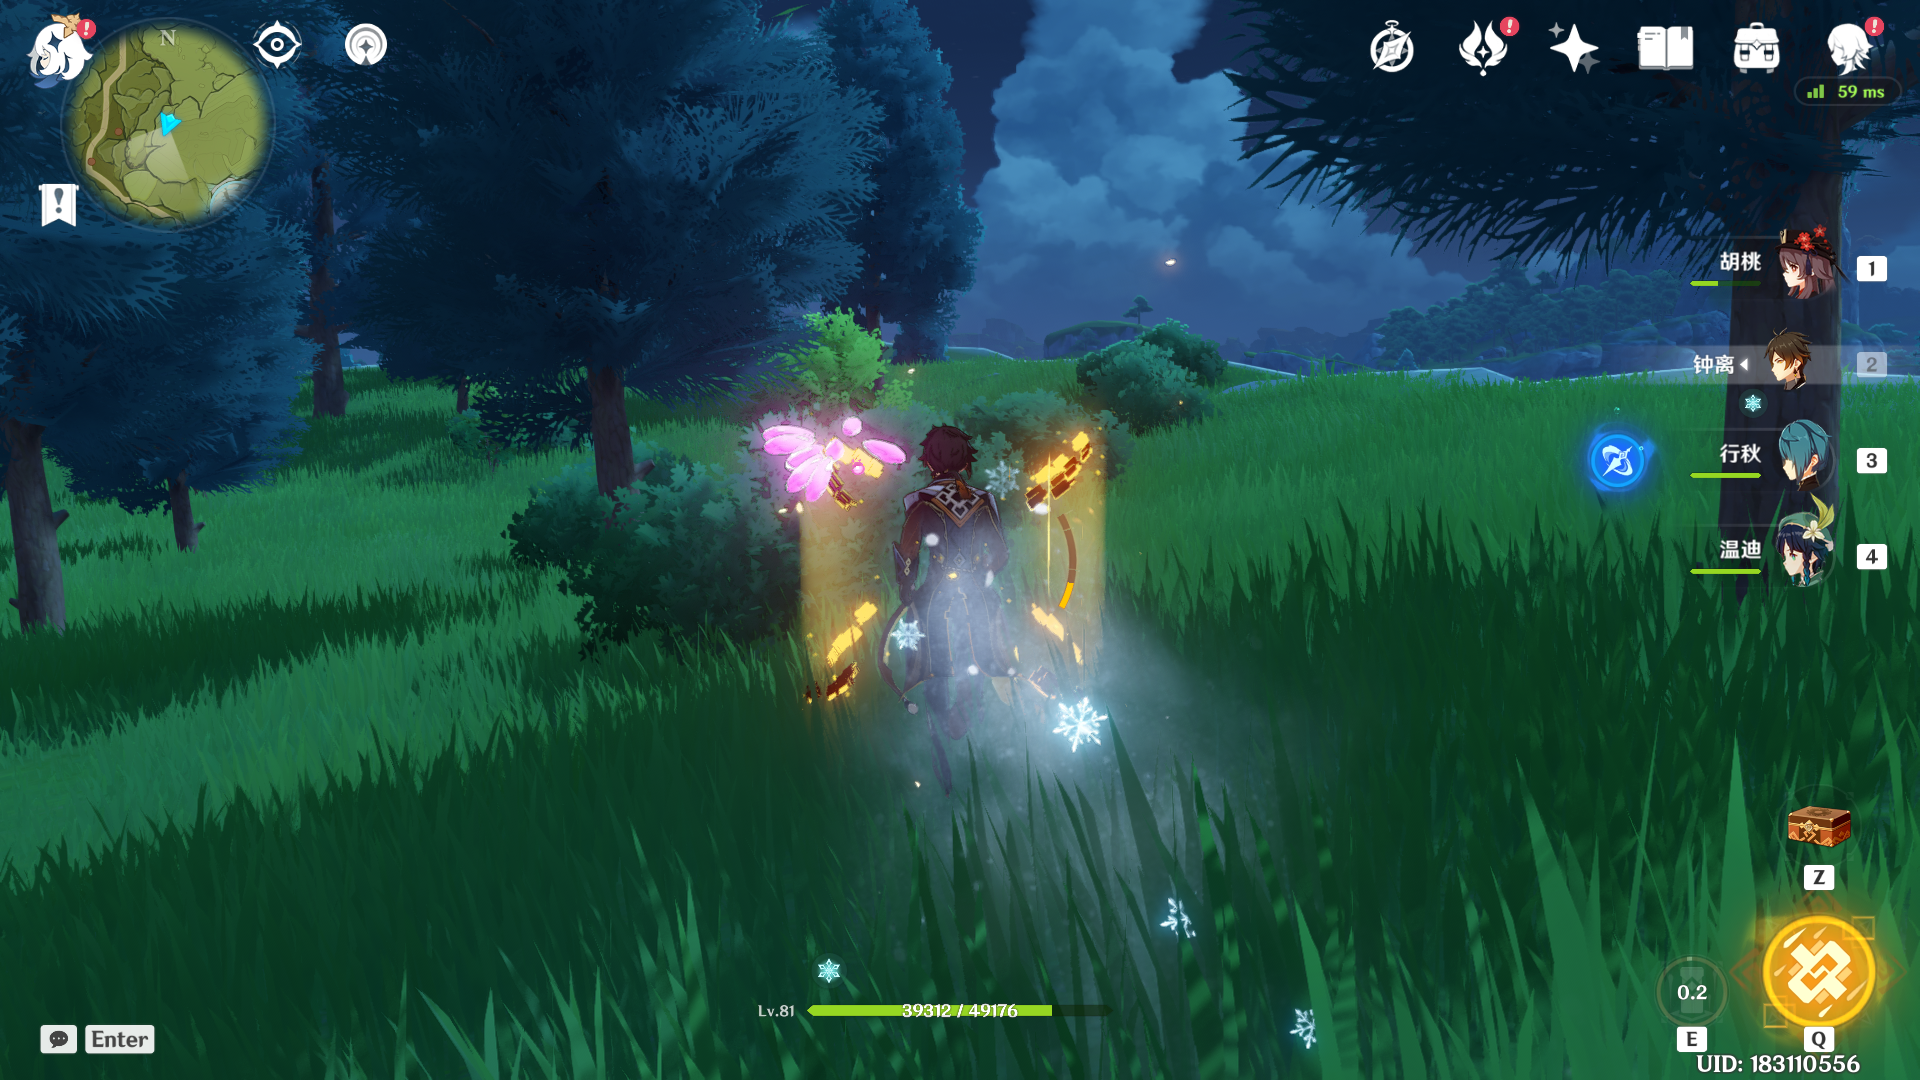character: (822, 400, 1080, 781)
